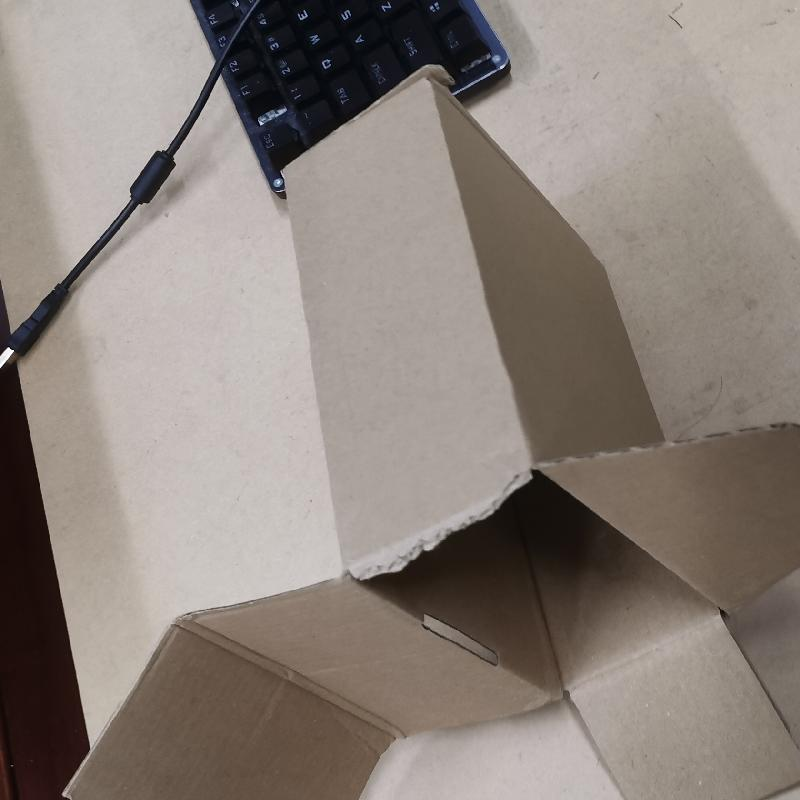boxes: (44, 67, 800, 800)
